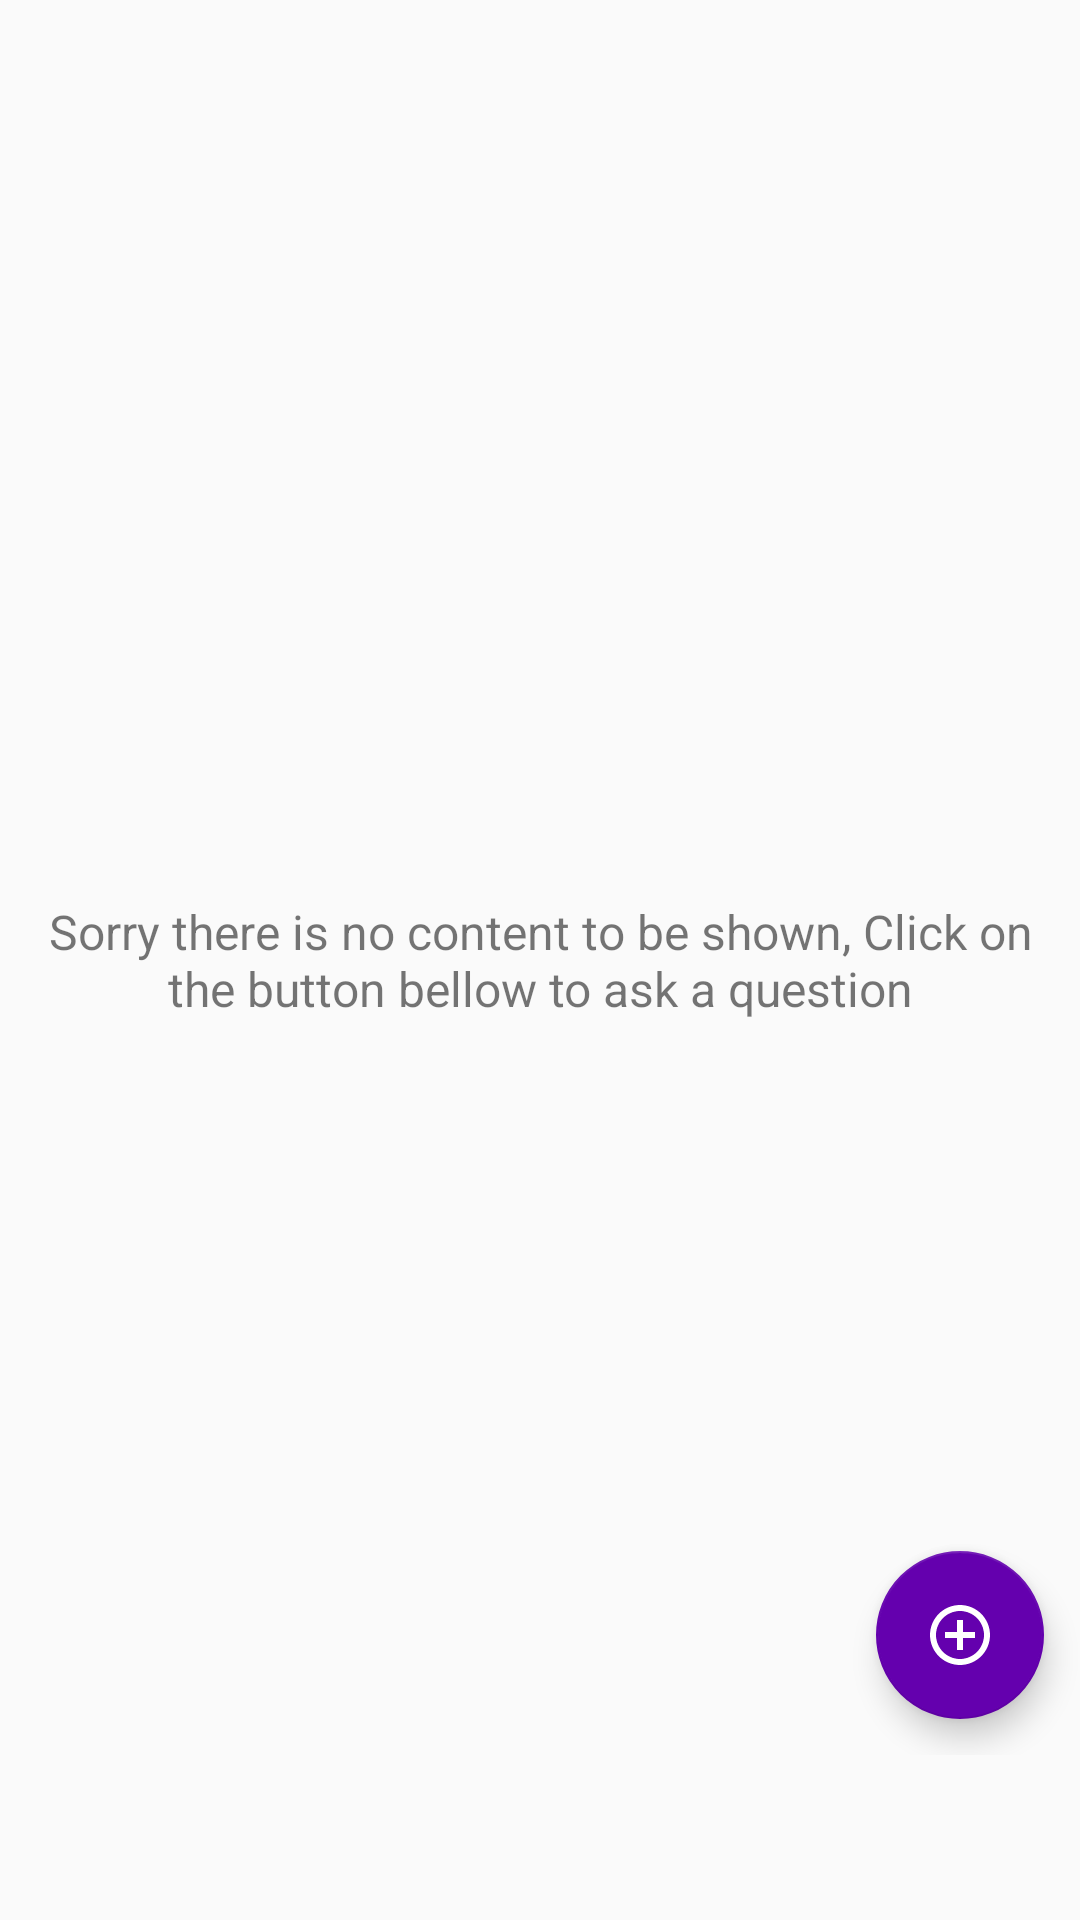

Locate icon controls on the screen. Image size 1080px x 1920px, boxes as (x1, y1, x2, y2).
add circle: (876, 1551, 1044, 1719)
